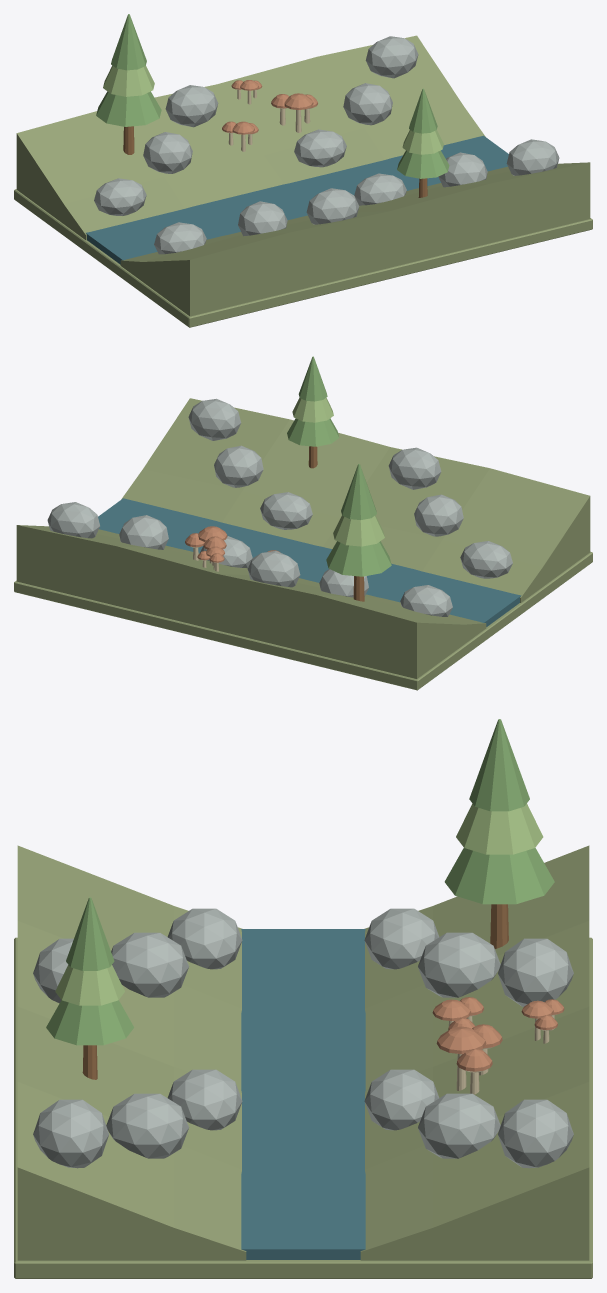
3 views of the same model, one above another, from view 1: azimuth 30°, elevation 25°; view 2: azimuth 150°, elevation 25°; view 3: azimuth 270°, elevation 25° (orthographic). The views are drawn at different scales.
Visible parts, largest first — view 1: GroundAndNature, WaterSurface_Runtime; view 2: GroundAndNature, WaterSurface_Runtime; view 3: GroundAndNature, WaterSurface_Runtime.
Part boxes in pixels (x1,y1,x2,y2): GroundAndNature: [14, 14, 592, 327]; WaterSurface_Runtime: [86, 135, 508, 264]; GroundAndNature: [14, 356, 592, 690]; WaterSurface_Runtime: [98, 498, 521, 626]; GroundAndNature: [14, 719, 592, 1278]; WaterSurface_Runtime: [241, 929, 365, 1259].
Bounding box in the file's own units: 4.04 × 1.76 × 3.04.
